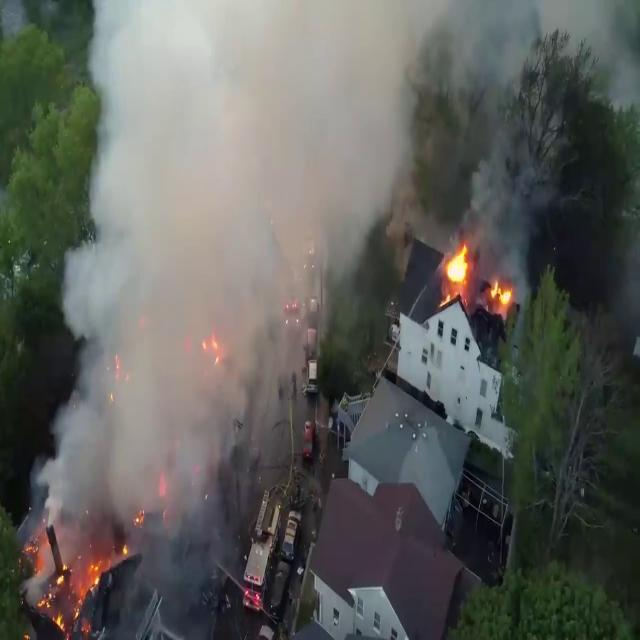Fire: (39, 536, 110, 637), (440, 236, 474, 297), (486, 274, 517, 318)
Smoke: (32, 0, 580, 563)
